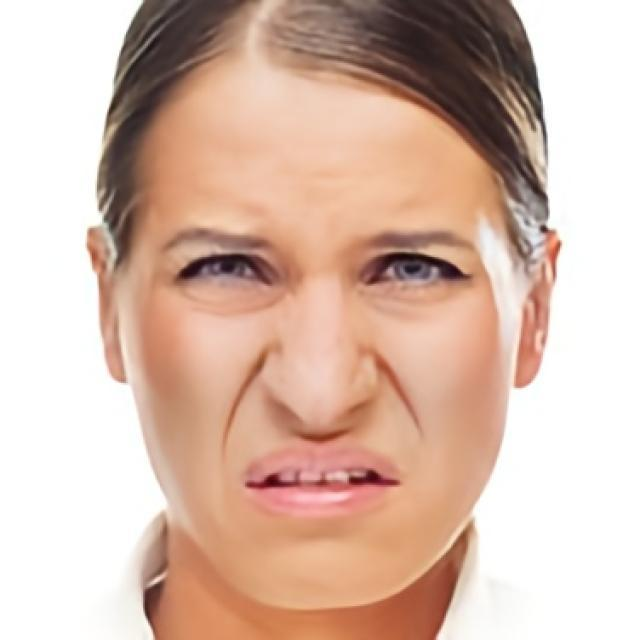disgust: (118, 39, 517, 612)
